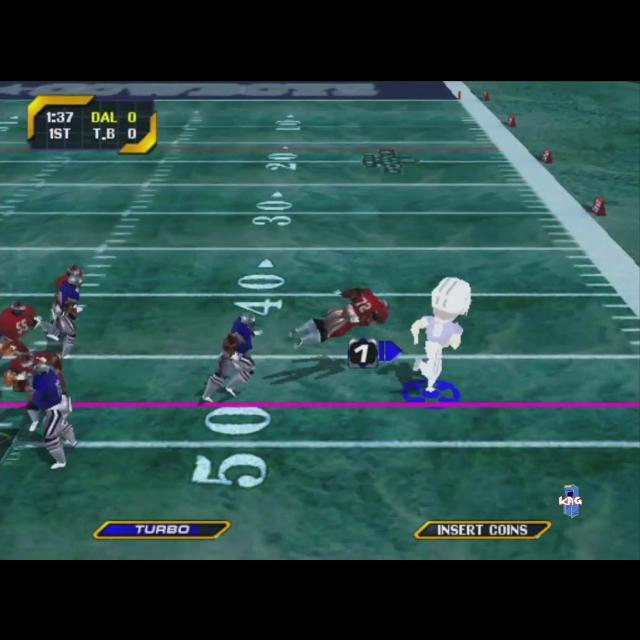player: (411, 277, 471, 393), (289, 286, 389, 350), (202, 311, 264, 401), (28, 358, 78, 468), (4, 350, 64, 430), (41, 272, 83, 358), (0, 300, 42, 356)
